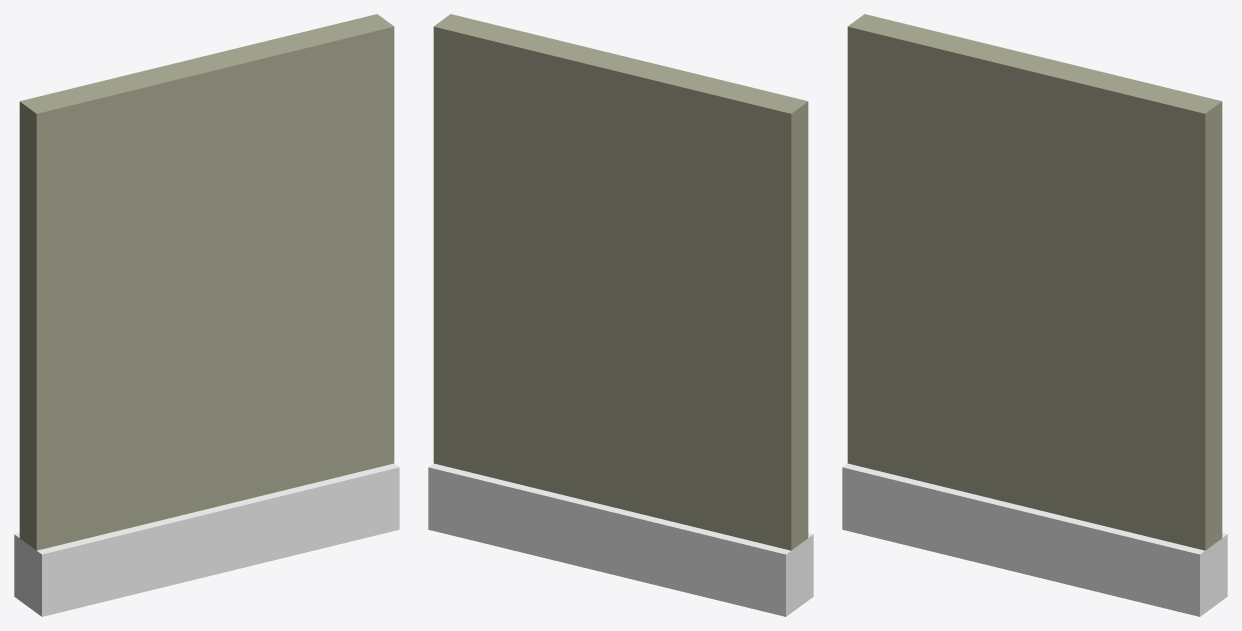
Rendered from Wall_Half_Door.fbx.
3 views of the same model, side by side, from view 1: azimuth 30°, elevation 25°; view 2: azimuth 150°, elevation 25°; view 3: azimuth 330°, elevation 25° (orthographic).
Parts seen in each view (by area): view 1: Wall_Half; view 2: Wall_Half; view 3: Wall_Half.
Boxes of the visible parts, <box> form: Wall_Half: <box>14,14,399,616</box>; Wall_Half: <box>428,14,813,616</box>; Wall_Half: <box>842,14,1227,616</box>.
Size of the model in its own units: 247 by 330 by 33.25.
